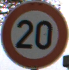20 km speed: (1, 1, 69, 69)
